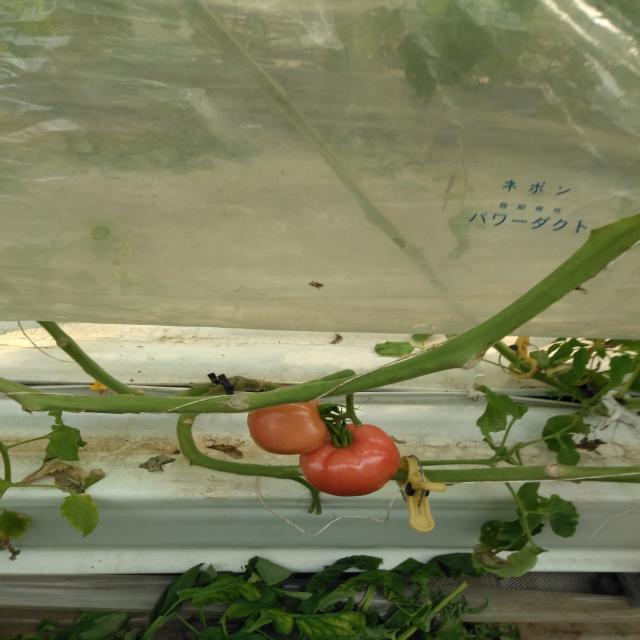n-half-riped: (247, 386, 328, 456)
n-riped: (298, 424, 400, 496)
